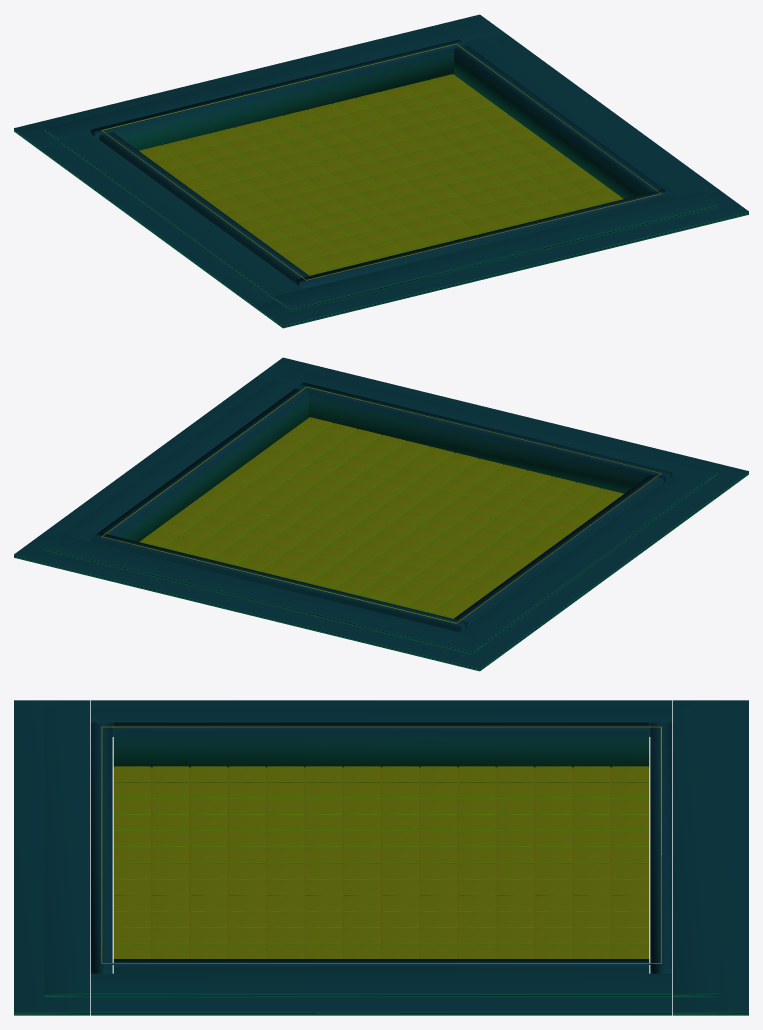
File: sanctum_basin.glb
3 renders of one model, top to bottom at view 1: azimuth 30°, elevation 25°; view 2: azimuth 150°, elevation 25°; view 3: azimuth 270°, elevation 25°, orthographic. The views are drawn at different scales.
Parts seen in each view (by area): view 1: sanctum_basin; view 2: sanctum_basin; view 3: sanctum_basin.
Part boxes in pixels (box(x1,y1,x2,y2)): sanctum_basin: box(14, 14, 748, 328); sanctum_basin: box(14, 357, 748, 671); sanctum_basin: box(14, 700, 748, 1015).
Size of what is drawn, in the model's own units: 19.18 by 1.14 by 19.18.
